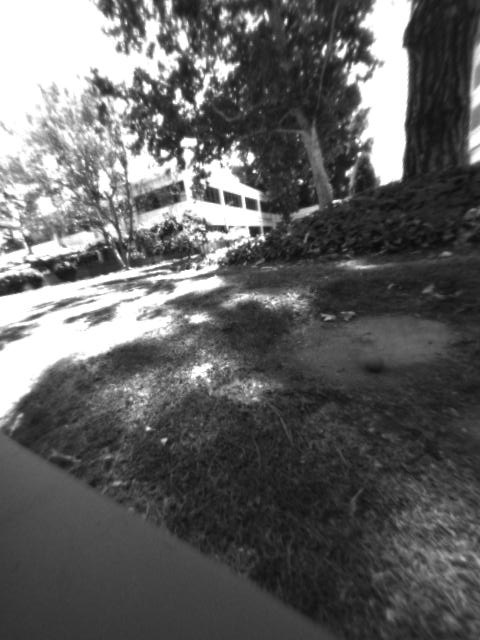dogtoy: (351, 346, 400, 380)
